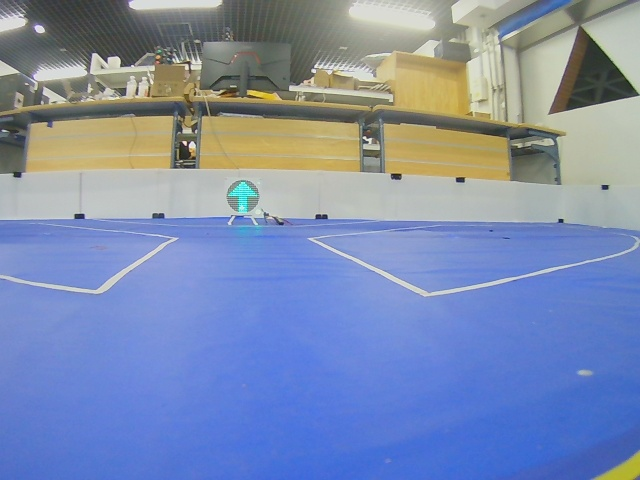straight_green: (226, 180, 260, 215)
